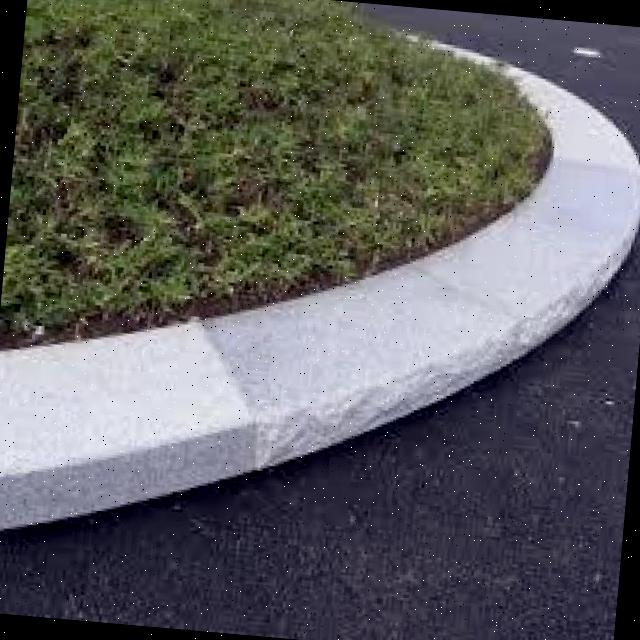curb: (1, 253, 313, 561), (293, 208, 516, 465), (501, 56, 640, 314)
